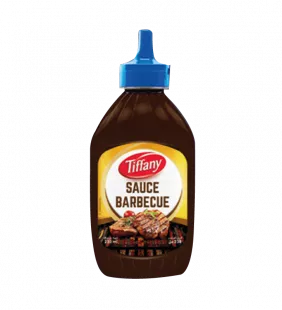TIFANNY: (83, 19, 205, 285)
